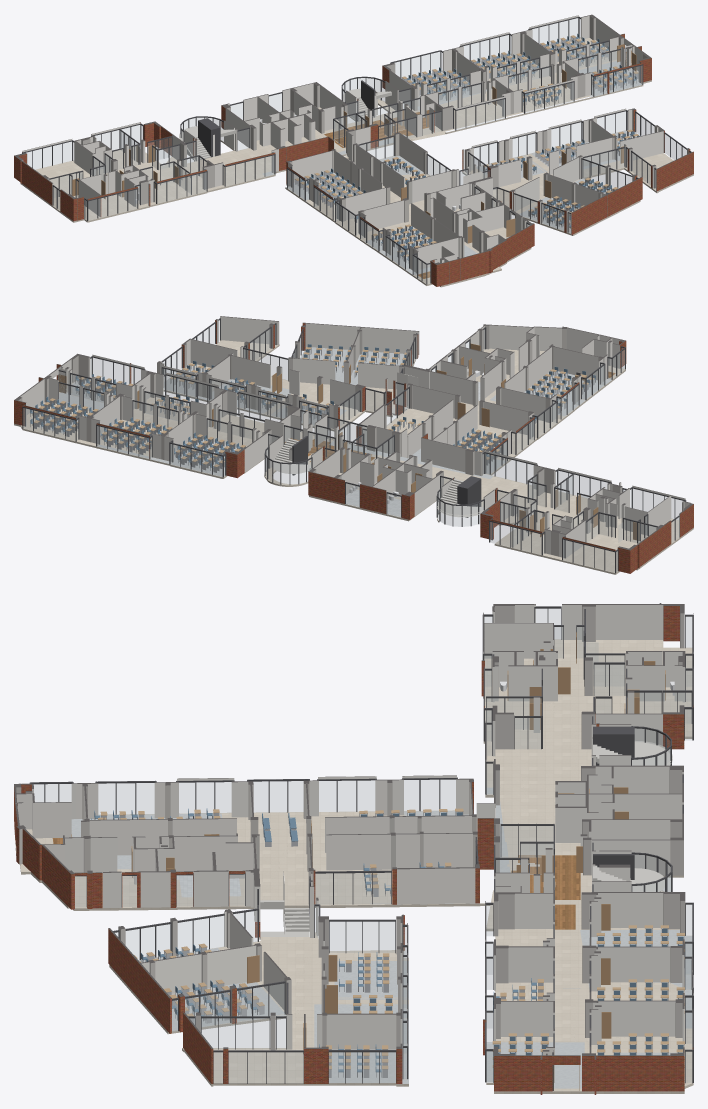
Rendered from floor-4.glb.
3 renders of one model, top to bottom at view 1: azimuth 30°, elevation 25°; view 2: azimuth 150°, elevation 25°; view 3: azimuth 270°, elevation 25°, orthographic. The views are drawn at different scales.
Visible parts, largest first — view 1: P4_B_Walls, P4_A_Walls, P4_A_Glass, P4_A_Floor_Slab, P4_B_Glass, P4_A_Glass_Mullions, P4_A_Columns, P4_B_Columns, P4_B_Floor_Slab, P4_B_Glass_Mullions, P4_B_Floor_Zones, P4_A_Glass_Frames_Top (+14 smaller); view 2: P4_B_Walls, P4_A_Walls, P4_A_Glass, P4_A_Floor_Slab, P4_B_Glass, P4_A_Glass_Mullions, P4_A_Columns, P4_B_Floor_Slab, P4_B_Columns, P4_B_Floor_Zones, P4_A_Furniture_3_3, P4_B_Glass_Mullions (+14 smaller); view 3: P4_B_Walls, P4_A_Walls, P4_B_Glass, P4_A_Floor_Slab, P4_B_Floor_Slab, P4_A_Columns, P4_A_Glass, P4_B_Columns, P4_B_Floor_Zones, P4_A_Floor_Zones, P4_A_Glass_Frames_Top, P4_A_Glass_Mullions (+15 smaller).
Part boxes in pixels (<box>): P4_B_Walls: <box>287,108,693,285</box>; P4_A_Walls: <box>20,15,644,220</box>; P4_A_Glass: <box>27,18,642,220</box>; P4_A_Floor_Slab: <box>21,37,651,222</box>; P4_B_Glass: <box>288,111,686,283</box>; P4_A_Glass_Mullions: <box>22,18,643,220</box>; P4_A_Columns: <box>14,14,651,220</box>; P4_B_Columns: <box>286,108,690,286</box>; P4_B_Floor_Slab: <box>285,130,693,287</box>; P4_B_Glass_Mullions: <box>287,111,690,284</box>; P4_B_Floor_Zones: <box>286,130,639,278</box>; P4_A_Glass_Frames_Top: <box>22,17,642,201</box>; P4_B_Walls: <box>160,316,623,474</box>; P4_A_Walls: <box>17,354,690,568</box>; P4_A_Glass: <box>23,358,682,572</box>; P4_A_Floor_Slab: <box>14,380,693,574</box>; P4_B_Glass: <box>162,320,624,473</box>; P4_A_Glass_Mullions: <box>22,357,686,573</box>; P4_A_Columns: <box>14,353,693,573</box>; P4_B_Floor_Slab: <box>163,340,625,475</box>; P4_B_Columns: <box>157,319,626,458</box>; P4_B_Floor_Zones: <box>163,347,615,474</box>; P4_A_Furniture_3_3: <box>30,385,202,458</box>; P4_B_Glass_Mullions: <box>161,318,625,474</box>; P4_B_Walls: <box>14,775,475,1083</box>; P4_A_Walls: <box>481,603,693,1094</box>; P4_B_Glass: <box>34,780,455,1083</box>; P4_A_Floor_Slab: <box>483,639,693,1093</box>; P4_B_Floor_Slab: <box>14,810,490,1086</box>; P4_A_Columns: <box>492,604,685,1091</box>; P4_A_Glass: <box>484,609,692,1082</box>; P4_B_Columns: <box>14,778,479,1083</box>; P4_B_Floor_Zones: <box>52,811,479,1083</box>; P4_A_Floor_Zones: <box>485,787,692,1088</box>; P4_A_Glass_Frames_Top: <box>482,606,693,1055</box>; P4_A_Glass_Mullions: <box>482,606,693,1090</box>.
Bounding box in the file's own units: 77.78 × 5.99 × 48.97.
17 materials, 5 textured.
